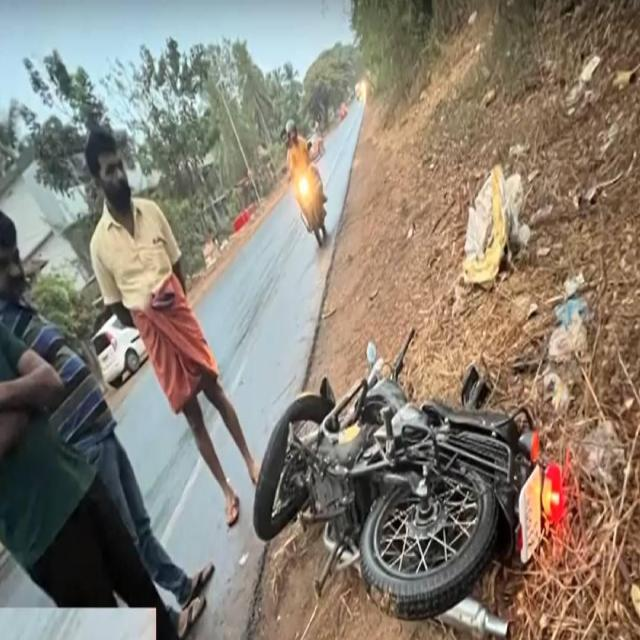accident: (254, 329, 560, 624)
